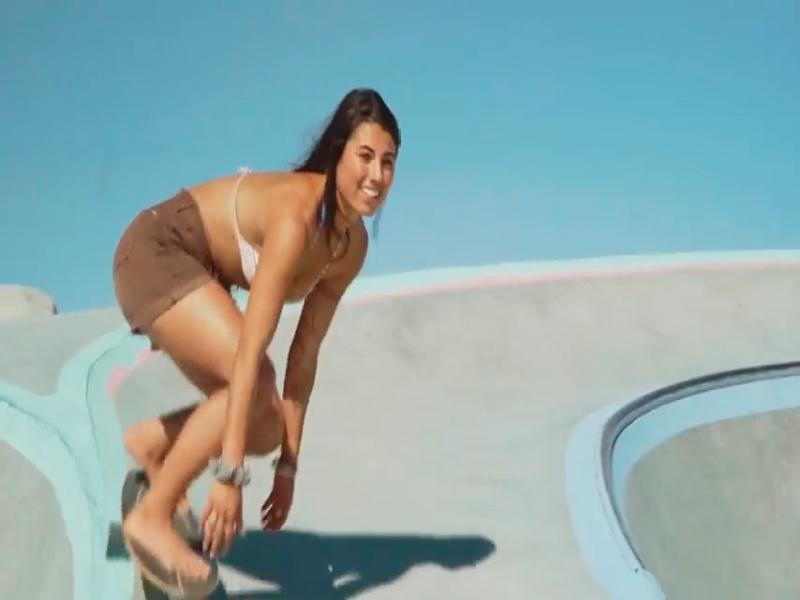person: (114, 90, 400, 597)
skate: (173, 496, 203, 554), (123, 473, 130, 499)
